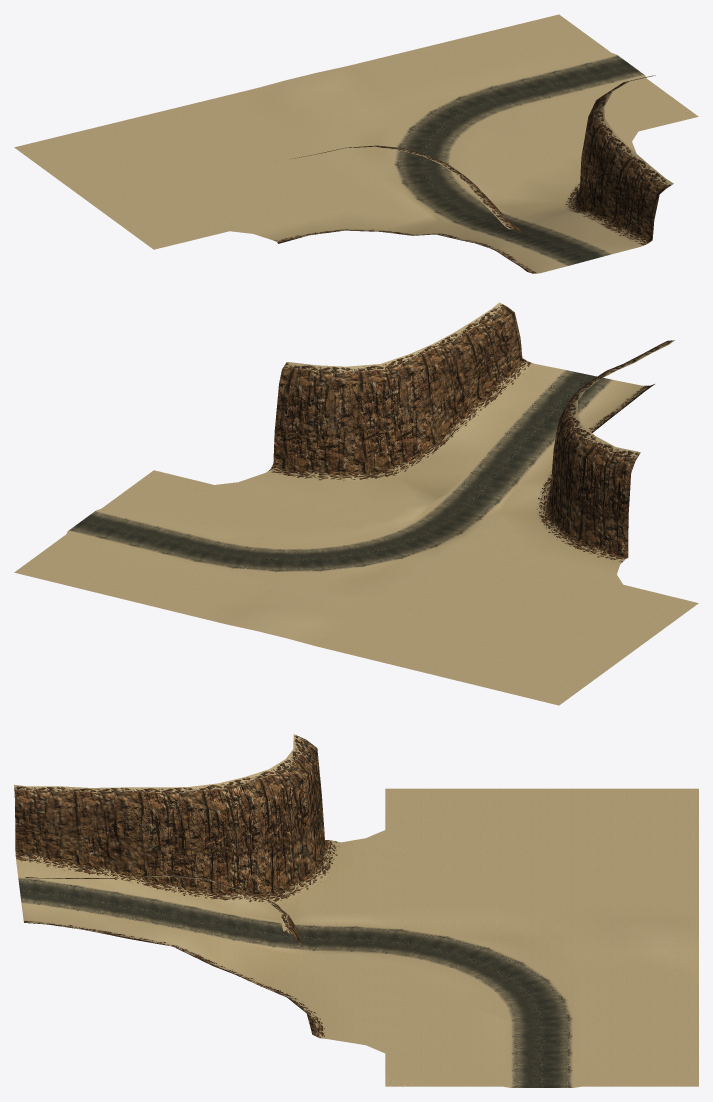
File: Mission8_Zone01B.glb
3 views of the same model, one above another, from view 1: azimuth 30°, elevation 25°; view 2: azimuth 150°, elevation 25°; view 3: azimuth 270°, elevation 25° (orthographic). The views are drawn at different scales.
Visible parts, largest first — view 1: MISSION8_ZONE01B023, MISSION8_ZONE01B017, MISSION8_ZONE01B011, MISSION8_ZONE01B029, MISSION8_ZONE01B055, MISSION8_ZONE01B136, MISSION8_ZONE01B098, MISSION8_ZONE01B157, MISSION8_ZONE01B158, MISSION8_ZONE01B155, MISSION8_ZONE01B159, MISSION8_ZONE01B156 (+135 smaller); view 2: MISSION8_ZONE01B056, MISSION8_ZONE01B044, MISSION8_ZONE01B057, MISSION8_ZONE01B047, MISSION8_ZONE01B048, MISSION8_ZONE01B029, MISSION8_ZONE01B036, MISSION8_ZONE01B023, MISSION8_ZONE01B049, MISSION8_ZONE01B017, MISSION8_ZONE01B011, MISSION8_ZONE01B037 (+35 smaller); view 3: MISSION8_ZONE01B039, MISSION8_ZONE01B025, MISSION8_ZONE01B019, MISSION8_ZONE01B032, MISSION8_ZONE01B013, MISSION8_ZONE01B049, MISSION8_ZONE01B007, MISSION8_ZONE01B031, MISSION8_ZONE01B, MISSION8_ZONE01B006, MISSION8_ZONE01B055, MISSION8_ZONE01B048 (+162 smaller).
Boxes of the visible parts, bbox=[...] form: MISSION8_ZONE01B023: bbox=[586, 133, 630, 223]; MISSION8_ZONE01B017: bbox=[603, 149, 648, 230]; MISSION8_ZONE01B011: bbox=[621, 165, 665, 240]; MISSION8_ZONE01B029: bbox=[567, 122, 614, 213]; MISSION8_ZONE01B055: bbox=[507, 177, 573, 201]; MISSION8_ZONE01B136: bbox=[408, 111, 475, 136]; MISSION8_ZONE01B098: bbox=[393, 163, 454, 183]; MISSION8_ZONE01B157: bbox=[523, 70, 581, 98]; MISSION8_ZONE01B158: bbox=[554, 62, 613, 90]; MISSION8_ZONE01B155: bbox=[458, 86, 521, 113]; MISSION8_ZONE01B159: bbox=[586, 54, 644, 82]; MISSION8_ZONE01B156: bbox=[490, 78, 550, 105]; MISSION8_ZONE01B056: bbox=[305, 384, 355, 497]; MISSION8_ZONE01B044: bbox=[349, 364, 395, 481]; MISSION8_ZONE01B057: bbox=[266, 369, 314, 479]; MISSION8_ZONE01B047: bbox=[595, 447, 640, 559]; MISSION8_ZONE01B048: bbox=[568, 436, 615, 550]; MISSION8_ZONE01B029: bbox=[415, 344, 459, 457]; MISSION8_ZONE01B036: bbox=[389, 371, 430, 476]; MISSION8_ZONE01B023: bbox=[433, 333, 484, 428]; MISSION8_ZONE01B049: bbox=[543, 429, 594, 550]; MISSION8_ZONE01B017: bbox=[453, 321, 500, 407]; MISSION8_ZONE01B011: bbox=[472, 308, 521, 386]; MISSION8_ZONE01B037: bbox=[380, 354, 419, 424]; MISSION8_ZONE01B039: bbox=[233, 776, 294, 903]; MISSION8_ZONE01B025: bbox=[161, 795, 208, 905]; MISSION8_ZONE01B019: bbox=[108, 793, 174, 898]; MISSION8_ZONE01B032: bbox=[199, 808, 265, 913]; MISSION8_ZONE01B013: bbox=[73, 805, 154, 897]; MISSION8_ZONE01B049: bbox=[277, 766, 326, 893]; MISSION8_ZONE01B007: bbox=[35, 806, 115, 890]; MISSION8_ZONE01B031: bbox=[189, 777, 263, 895]; MISSION8_ZONE01B: bbox=[14, 784, 65, 854]; MISSION8_ZONE01B006: bbox=[34, 786, 97, 831]; MISSION8_ZONE01B055: bbox=[265, 962, 345, 996]; MISSION8_ZONE01B048: bbox=[286, 749, 326, 873].
Size of the model in its own units: 145 by 25.72 by 140.
Materials: 8 (8 with a texture image).
